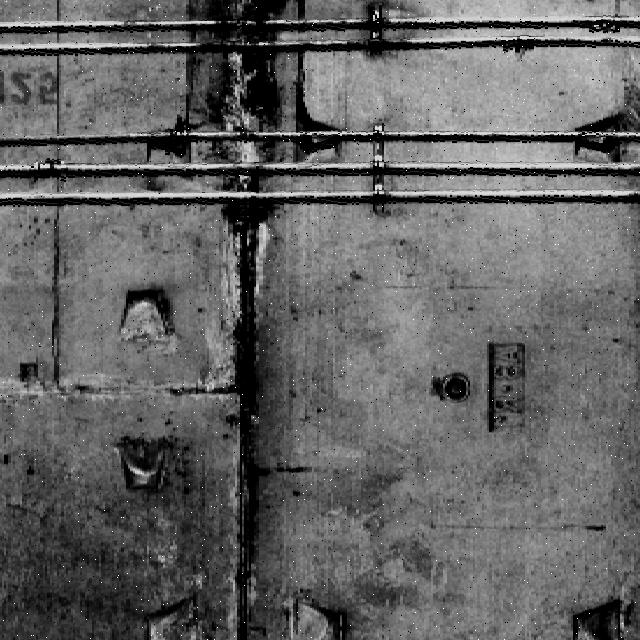leakage: (188, 1, 299, 630)
